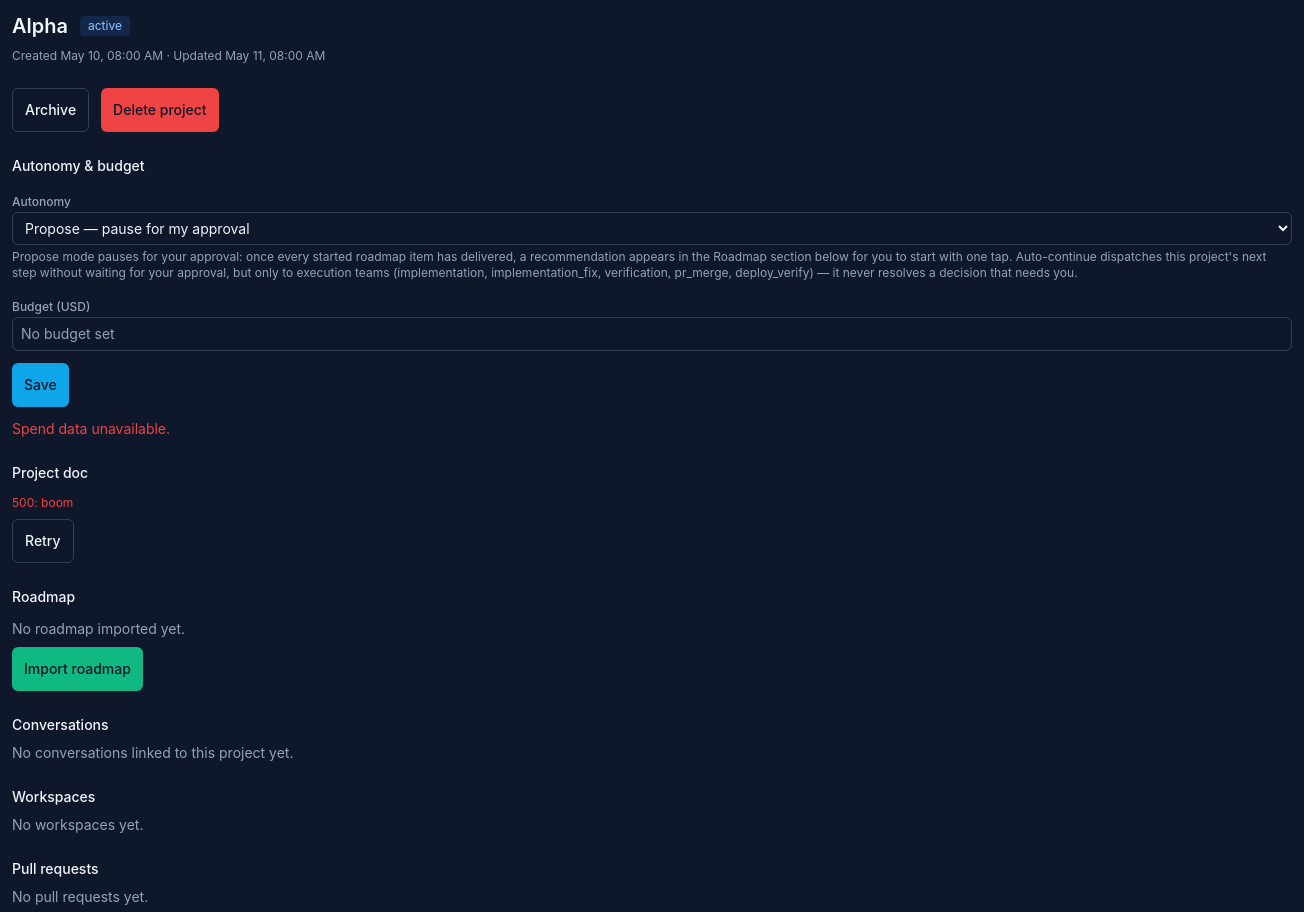
it: Project › project doc › shows an error and a working retry button when the doc fetch fails
Check: the message with test id "project-doc-error" shows "500", box [12, 495, 73, 510]
Click the button with test id "project-doc-retry".
click(43, 541)  # box [12, 519, 74, 563]
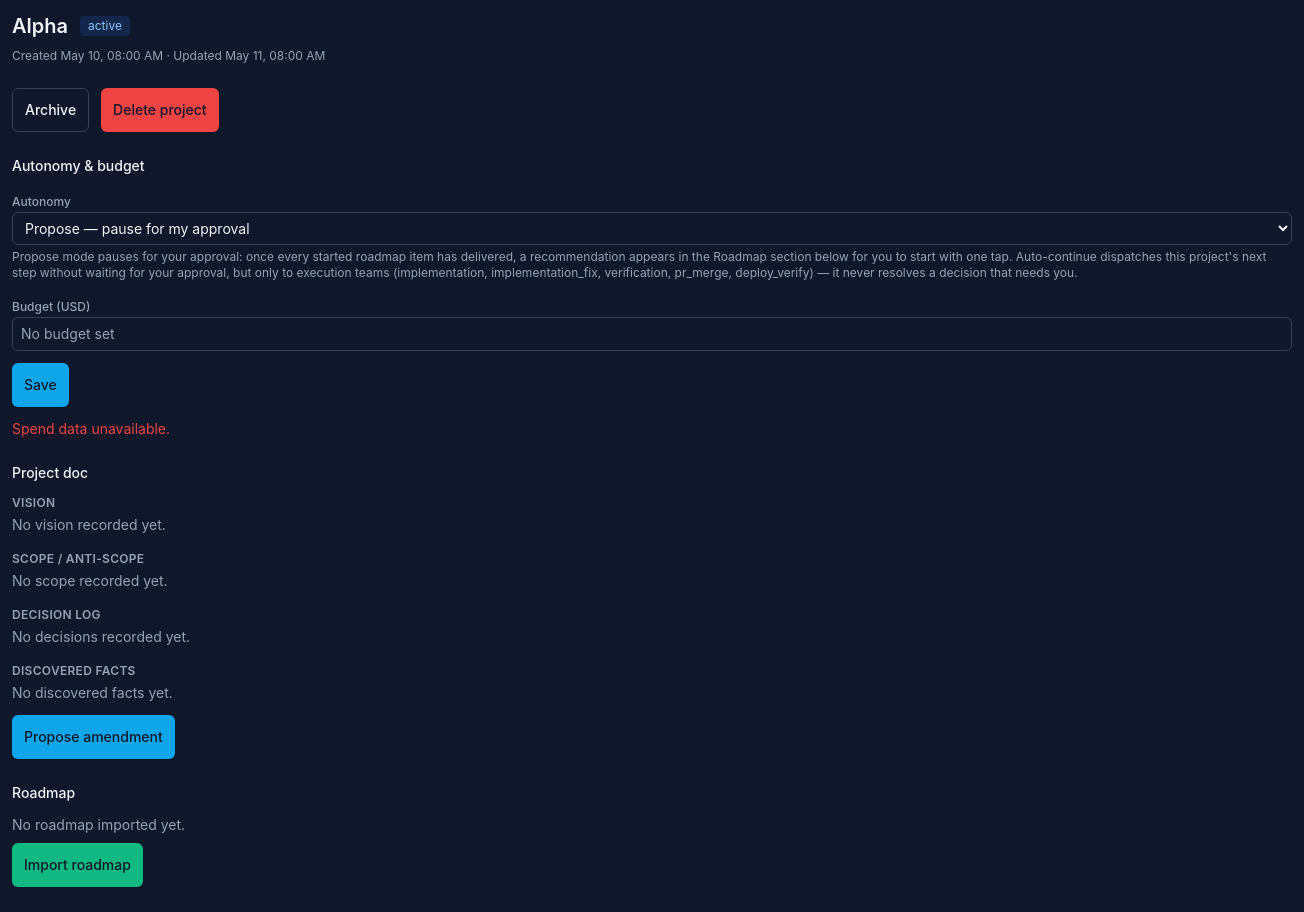
Check: the element with test id "project-doc" is shown, box [12, 495, 190, 701]
